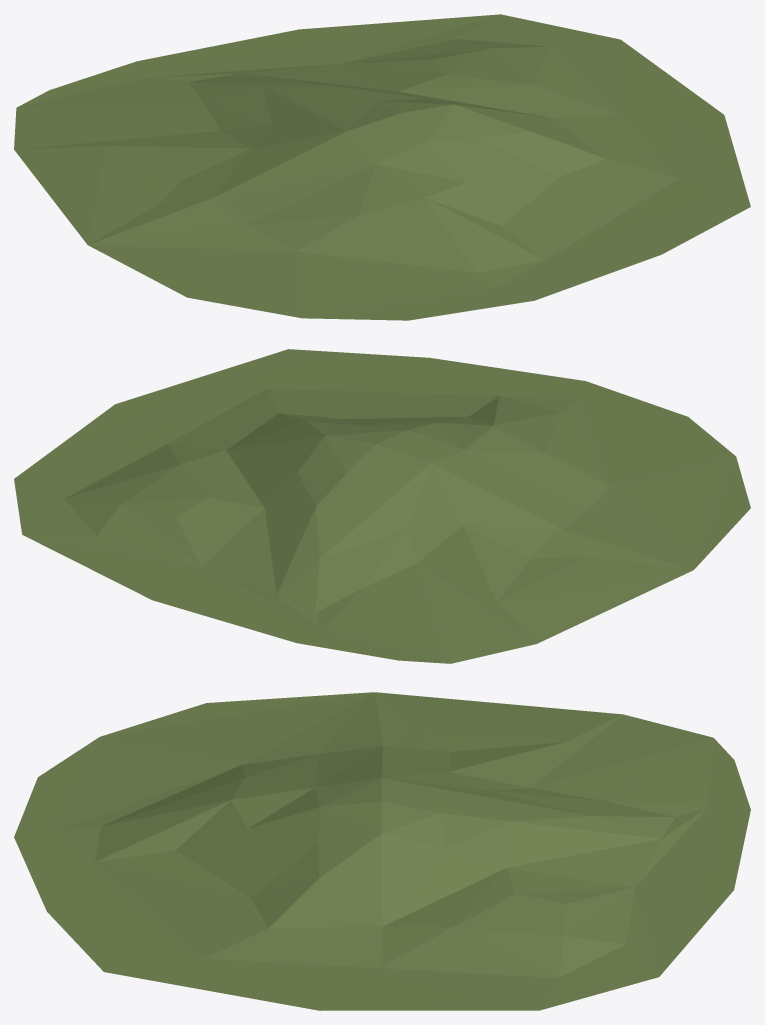
Rendered from SM_Terrain_Ground_Mound_Small_02.glb.
3 renders of one model, top to bottom at view 1: azimuth 30°, elevation 25°; view 2: azimuth 150°, elevation 25°; view 3: azimuth 270°, elevation 25°, orthographic. The views are drawn at different scales.
Visible parts, largest first — view 1: SM_Terrain_Ground_Mound_Small_02; view 2: SM_Terrain_Ground_Mound_Small_02; view 3: SM_Terrain_Ground_Mound_Small_02.
Boxes of the visible parts, <box> form: SM_Terrain_Ground_Mound_Small_02: <box>14,14,750,320</box>; SM_Terrain_Ground_Mound_Small_02: <box>14,349,750,663</box>; SM_Terrain_Ground_Mound_Small_02: <box>14,692,750,1010</box>.
Bounding box in the file's own units: 5.09 × 0.4184 × 4.98.
1 material, 1 textured.
